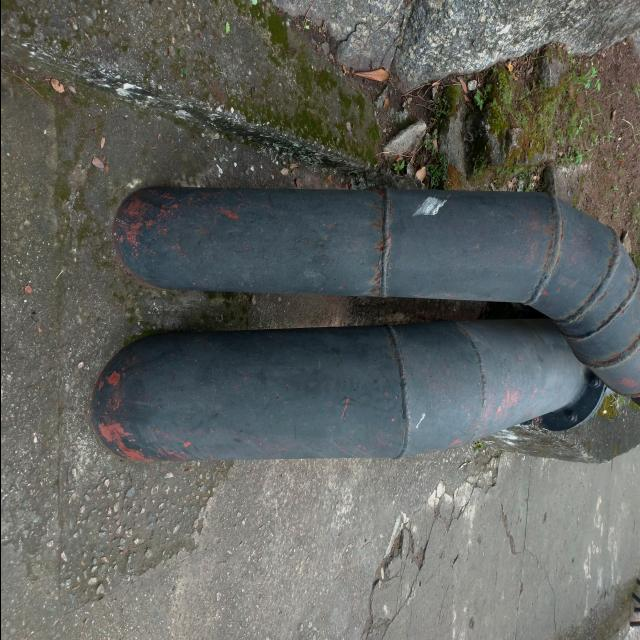gas: (112, 178, 640, 306), (101, 320, 569, 464)
